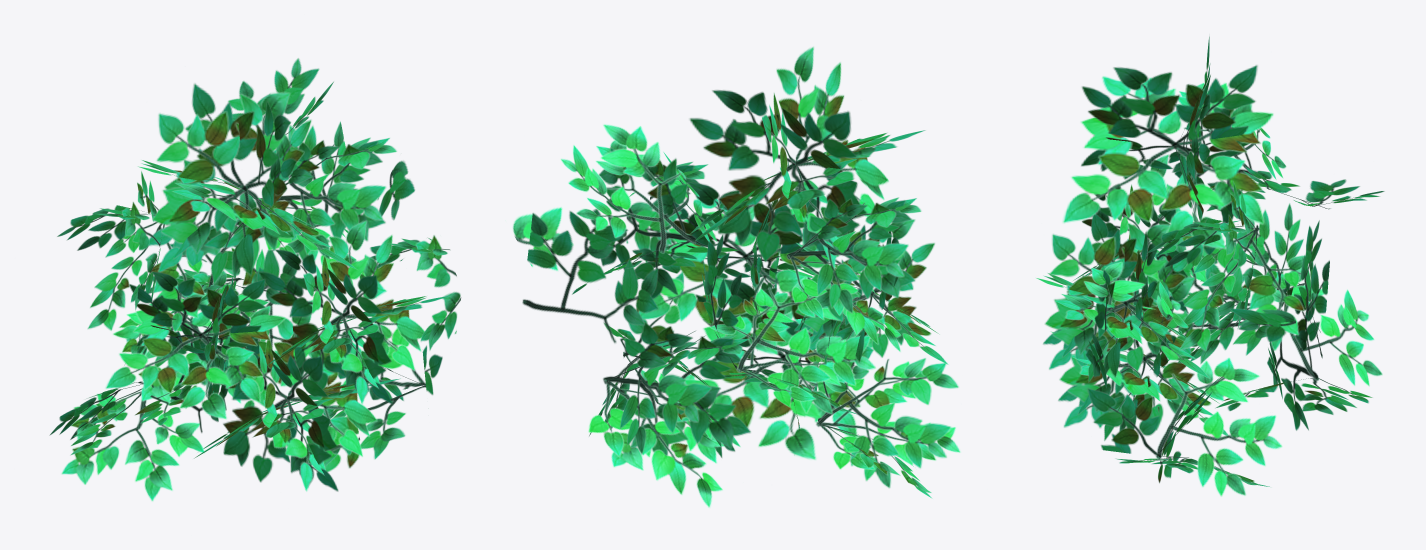
The model's file is Leaf_P3.glb.
3 renders of one model, left to right at view 1: azimuth 30°, elevation 25°; view 2: azimuth 150°, elevation 25°; view 3: azimuth 270°, elevation 25°, orthographic. The views are drawn at different scales.
Parts seen in each view (by area): view 1: Leaf_P3; view 2: Leaf_P3; view 3: Leaf_P3.
Part boxes in pixels (x1,y1,x2,y2): Leaf_P3: (49,58,461,501); Leaf_P3: (512,46,960,507); Leaf_P3: (1036,36,1384,496).
Size of the model in its own units: 2.48 by 2.4 by 2.03.
Materials: 1 (1 with a texture image).
